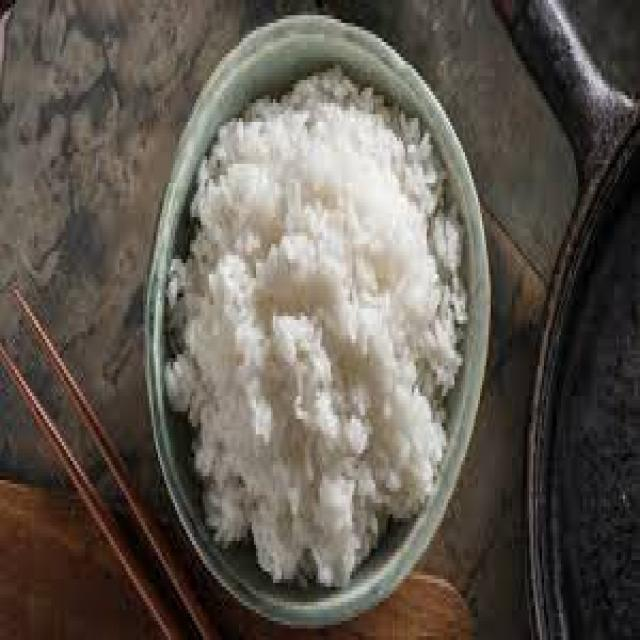White Rice: (157, 49, 461, 616)
